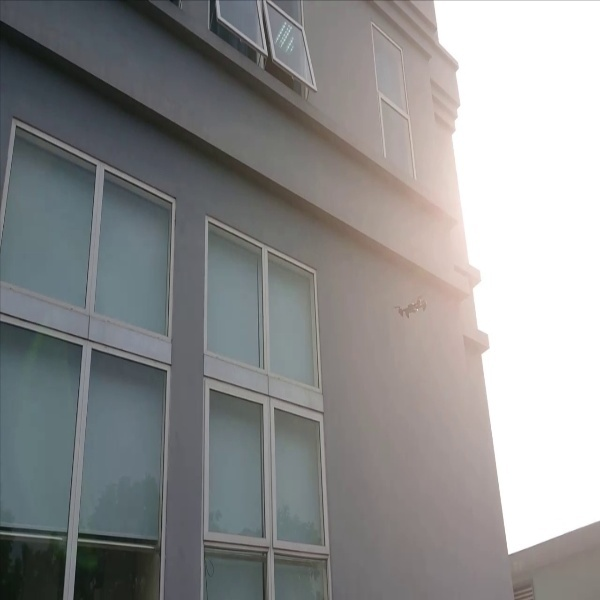drone: (391, 288, 432, 322)
